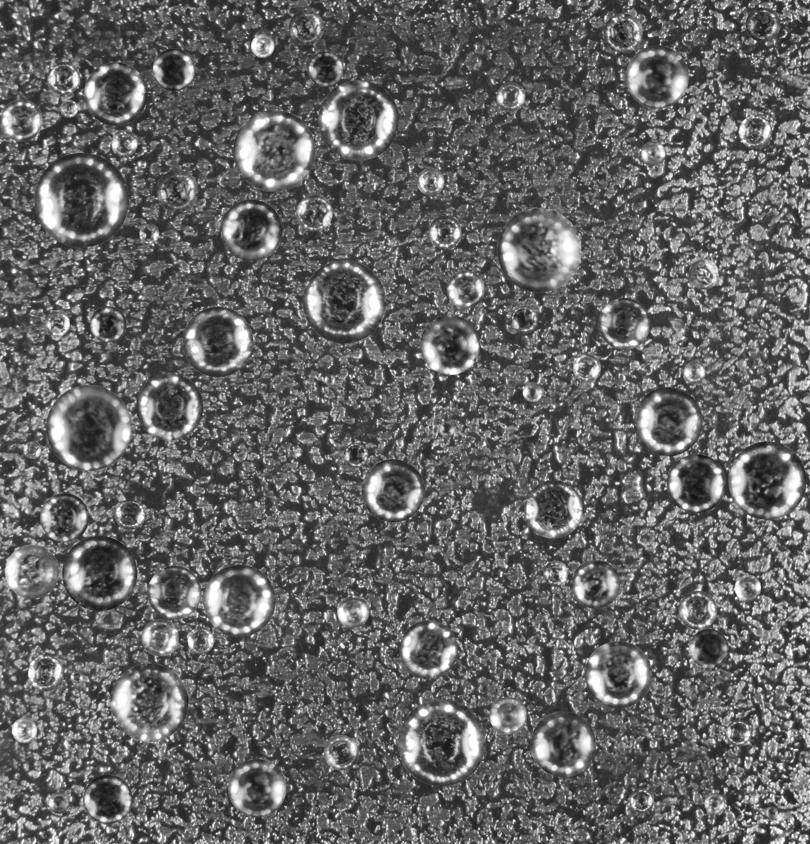Bubble: (34, 152, 128, 247), (398, 699, 485, 786), (46, 385, 131, 470), (497, 208, 581, 292), (302, 260, 385, 343), (233, 109, 315, 191), (318, 80, 398, 160), (110, 663, 188, 741), (728, 441, 806, 519), (62, 536, 137, 611), (203, 564, 275, 636), (182, 306, 252, 377), (633, 387, 702, 456), (584, 641, 652, 708), (136, 373, 203, 440), (530, 711, 595, 777), (361, 459, 424, 522), (84, 62, 147, 125), (626, 45, 688, 108), (220, 199, 282, 260), (667, 454, 726, 513), (420, 315, 479, 374), (524, 480, 582, 538), (228, 759, 286, 817), (399, 620, 457, 678), (147, 565, 201, 619), (5, 544, 58, 598), (598, 298, 650, 349), (83, 774, 132, 824), (571, 560, 620, 608), (40, 493, 88, 542), (152, 48, 195, 90), (156, 170, 198, 212), (0, 99, 42, 141), (603, 13, 643, 52), (689, 629, 728, 668), (678, 591, 717, 629), (446, 270, 484, 308), (489, 697, 527, 734), (141, 619, 178, 656), (27, 655, 63, 691), (90, 306, 126, 342), (296, 195, 332, 231), (307, 51, 342, 86), (288, 10, 323, 45), (323, 735, 358, 770), (745, 7, 780, 41), (428, 215, 461, 248), (739, 115, 772, 148), (47, 61, 79, 94), (337, 596, 369, 628), (114, 499, 145, 529), (688, 259, 719, 289), (496, 82, 525, 111), (417, 168, 444, 195), (573, 354, 600, 381), (510, 306, 537, 333), (734, 574, 761, 601), (111, 129, 137, 156), (725, 720, 751, 746), (43, 310, 69, 336), (187, 627, 213, 653), (11, 717, 37, 743), (629, 788, 654, 813), (343, 443, 368, 467), (641, 141, 665, 166), (543, 561, 567, 585), (251, 34, 274, 57), (683, 361, 705, 383), (704, 793, 725, 814), (48, 792, 69, 813), (139, 223, 159, 243), (522, 382, 542, 401), (23, 441, 41, 459), (60, 99, 77, 117), (439, 421, 455, 437), (18, 60, 32, 74), (765, 806, 778, 818), (70, 671, 82, 683), (324, 374, 335, 385)
